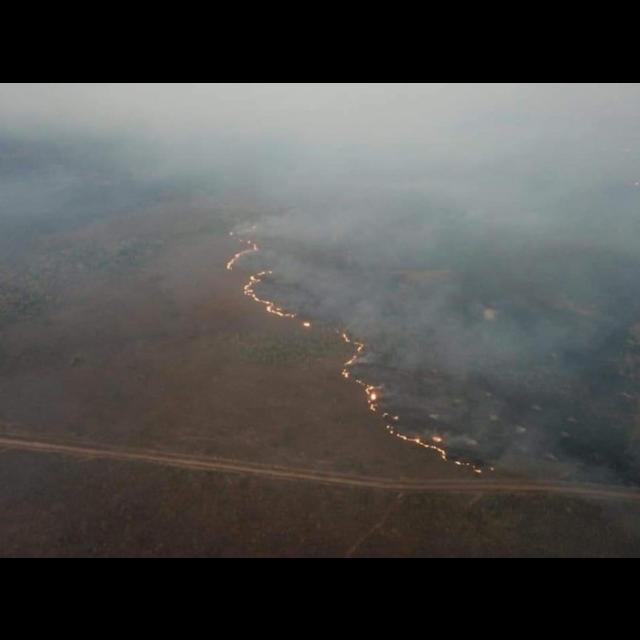Fire: (224, 230, 312, 326), (387, 414, 483, 474), (339, 332, 378, 412)
Smoke: (0, 84, 640, 226), (313, 225, 640, 323), (3, 228, 225, 354), (385, 331, 640, 415), (490, 419, 640, 492)
